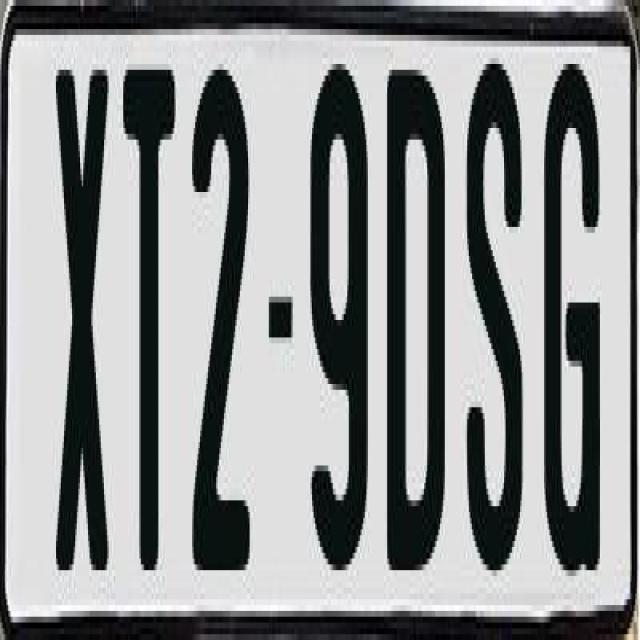2: (190, 70, 250, 570)
9: (310, 52, 378, 588)
D: (382, 70, 440, 594)
G: (540, 64, 598, 594)
S: (462, 58, 520, 599)
T: (120, 63, 179, 564)
X: (54, 52, 116, 576)
